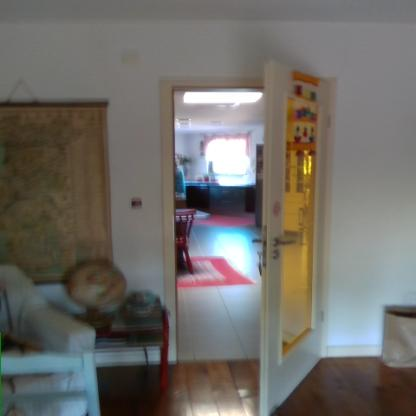semi: (156, 62, 350, 413)
